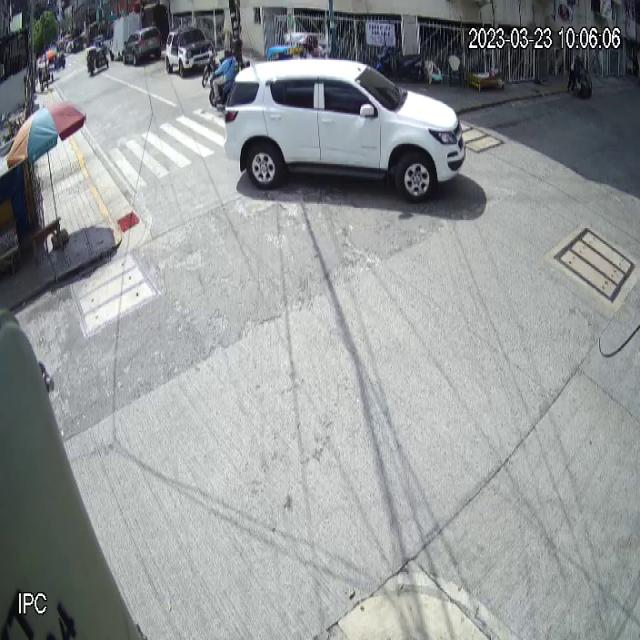Car: (224, 59, 465, 204)
